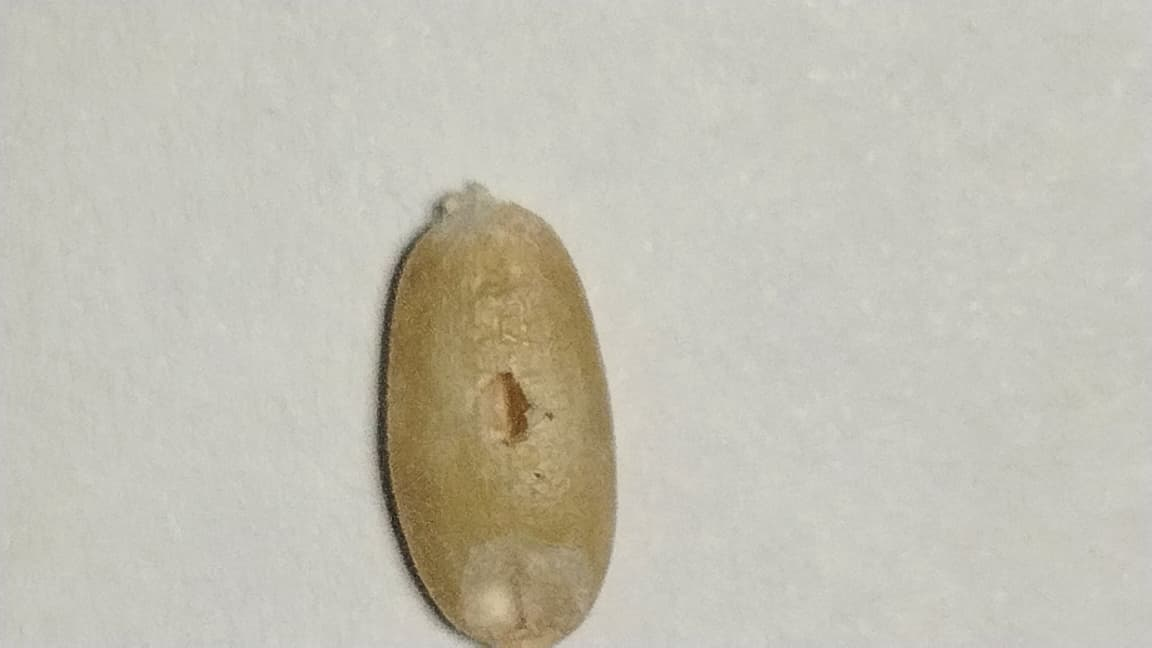damage: (380, 184, 616, 647)
insectdamage: (457, 279, 561, 493)
